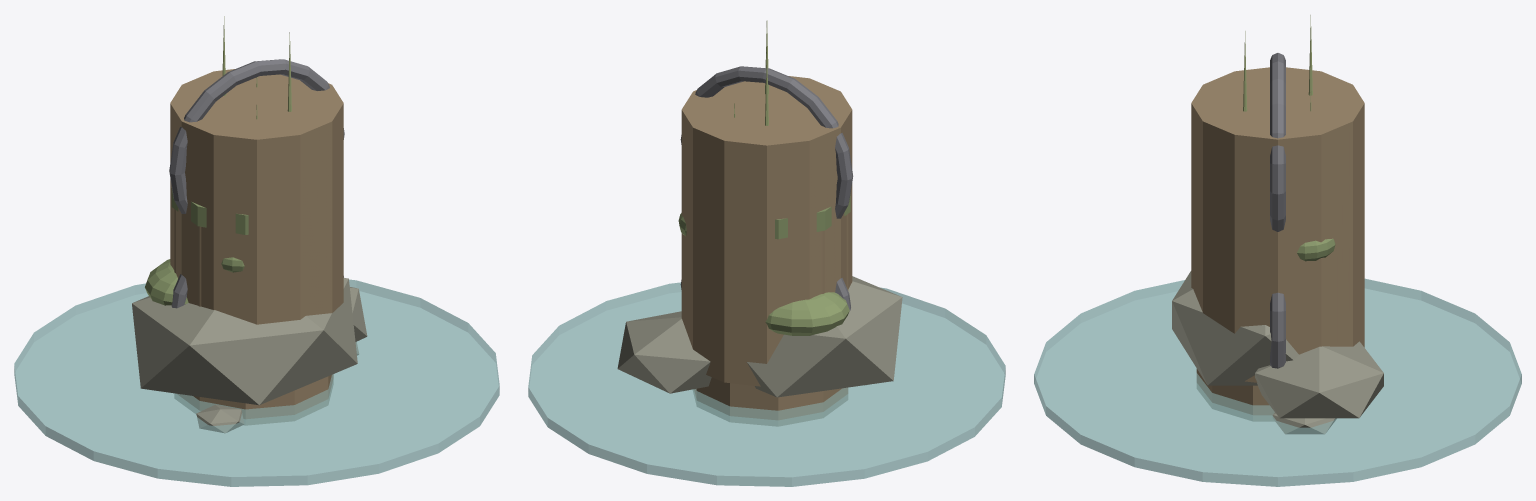
File: kit-marsh.glb
3 views of the same model, side by side, from view 1: azimuth 30°, elevation 25°; view 2: azimuth 150°, elevation 25°; view 3: azimuth 270°, elevation 25° (orthographic).
Parts seen in each view (by area): view 1: marsh_puddle, marsh_barrel, marsh_rock, marsh_stump; view 2: marsh_puddle, marsh_barrel, marsh_rock, marsh_stump; view 3: marsh_puddle, marsh_barrel, marsh_rock, marsh_stump.
Part boxes in pixels (<box>): marsh_puddle: <box>14,279,499,486</box>; marsh_barrel: <box>169,59,344,324</box>; marsh_rock: <box>132,259,367,405</box>; marsh_stump: <box>171,187,333,424</box>; marsh_puddle: <box>528,282,1005,486</box>; marsh_barrel: <box>680,66,853,386</box>; marsh_rock: <box>617,276,902,397</box>; marsh_stump: <box>678,194,850,425</box>; marsh_puddle: <box>1034,278,1521,486</box>; marsh_barrel: <box>1191,53,1364,382</box>; marsh_rock: <box>1172,271,1383,418</box>; marsh_stump: <box>1196,238,1335,420</box>.
Bounding box in the file's own units: 1.8 × 1.5 × 1.8.
